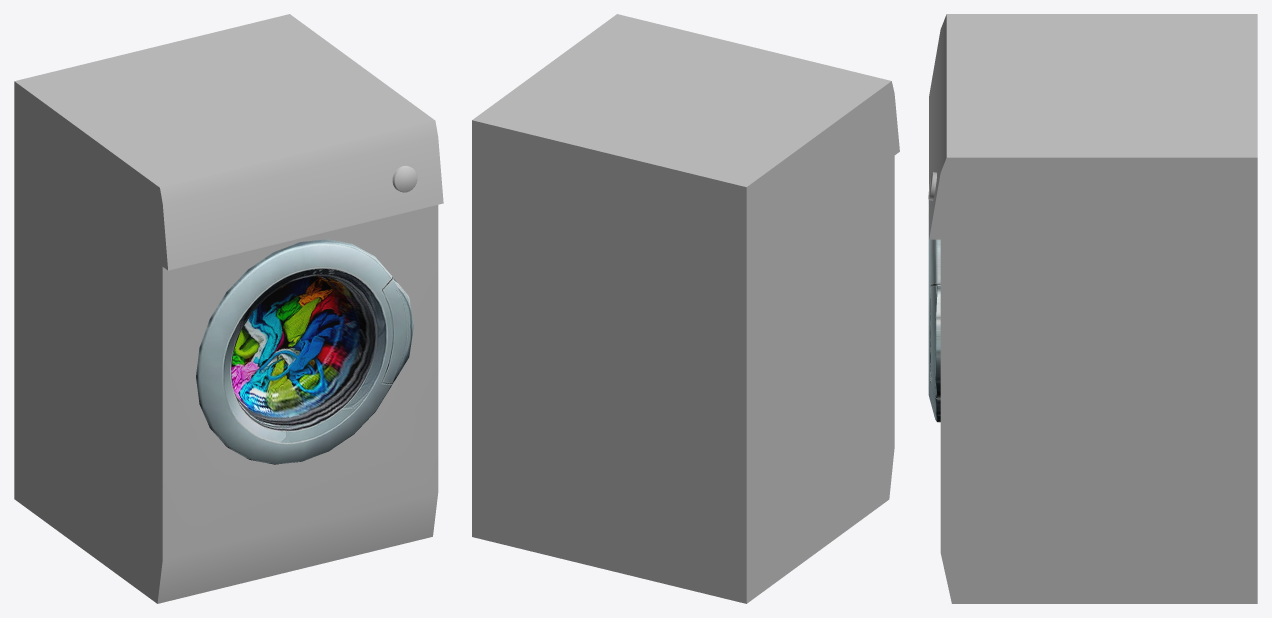
Rendered from WashingMachine1.fbx.
3 renders of one model, left to right at view 1: azimuth 30°, elevation 25°; view 2: azimuth 150°, elevation 25°; view 3: azimuth 270°, elevation 25°, orthographic. The views are drawn at different scales.
Parts seen in each view (by area): view 1: default; view 2: default; view 3: default.
Boxes of the visible parts, left/top/right/bottom form: default: left=14, top=14, right=443, bottom=603; default: left=472, top=14, right=899, bottom=603; default: left=928, top=14, right=1257, bottom=603.
Size of the model in its own units: 600 by 870 by 582.
